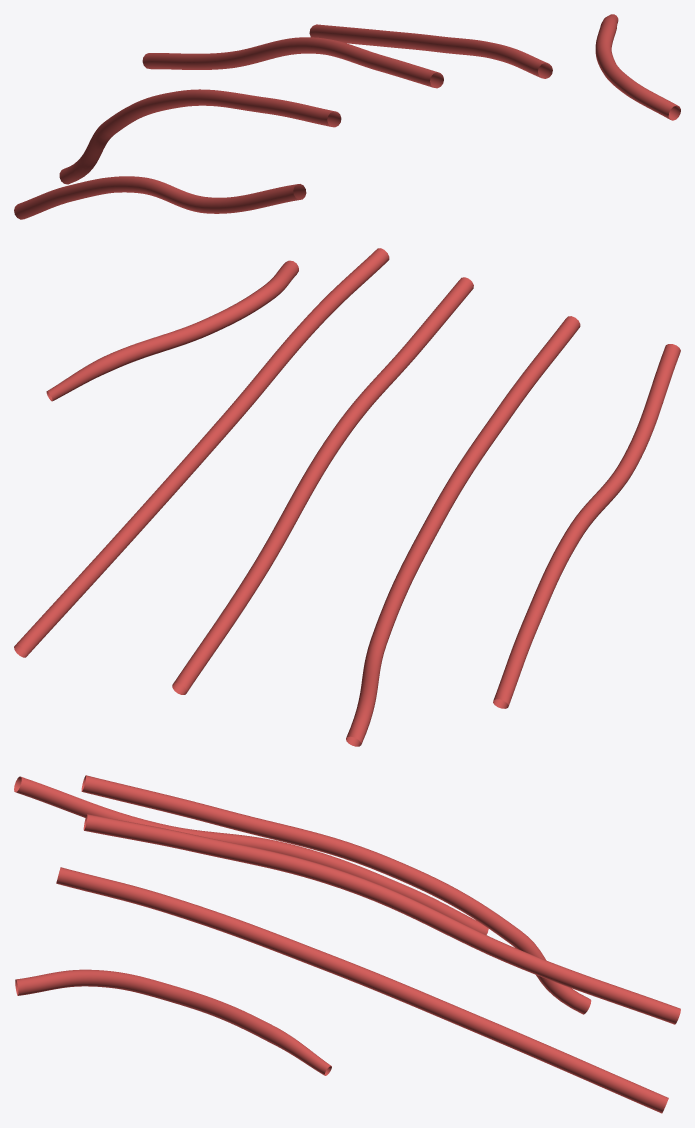
3 renders of one model, top to bottom at view 1: azimuth 30°, elevation 25°; view 2: azimuth 150°, elevation 25°; view 3: azimuth 270°, elevation 25°, orthographic. The views are drawn at different scales.
Visible parts, largest first — view 1: 左侧掌背动脉; view 2: 左侧掌背动脉; view 3: 左侧掌背动脉.
Boxes of the visible parts, <box> form: 左侧掌背动脉: <box>14,14,680,219</box>; 左侧掌背动脉: <box>14,248,680,746</box>; 左侧掌背动脉: <box>14,775,680,1113</box>.
Size of the model in its own units: 0.0929 by 0.0427 by 0.0976.
